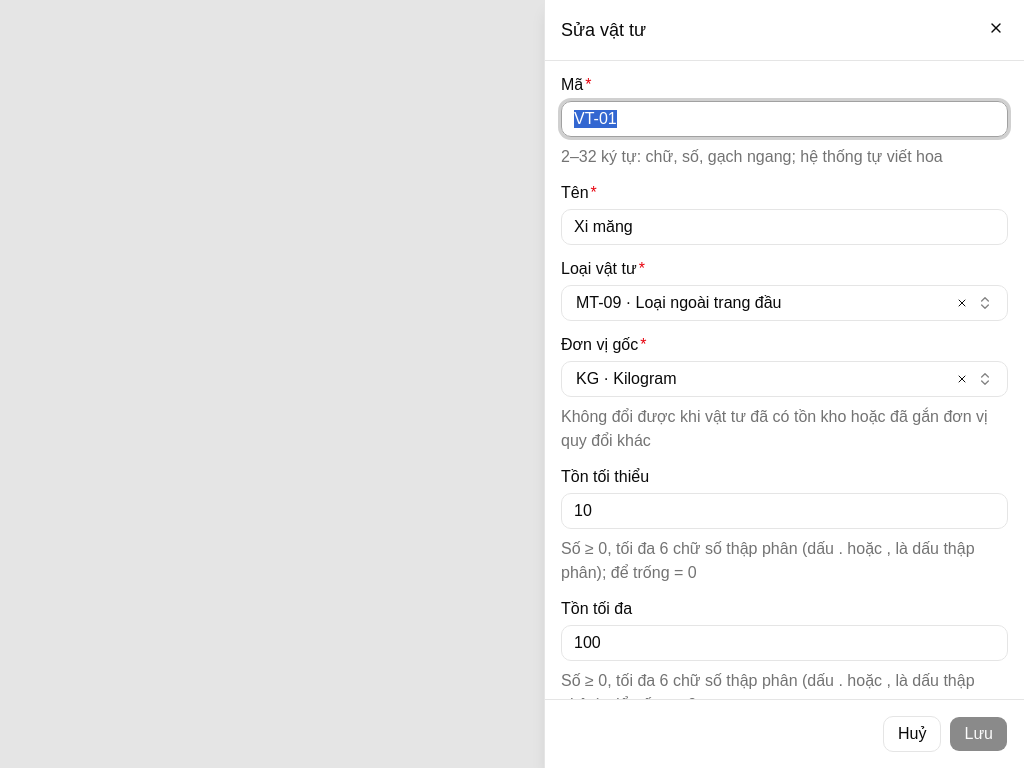
MaterialFormSheet › sửa: đổi đơn vị gốc bị khoá (100723) → lỗi tại ô Đơn vị gốc, có gợi ý sẵn
Expected: the text "Không đổi được khi vật tư đã có tồn kho hoặc đã gắn đơn vị quy đổi khác" is shown, [561,405,1008,453]
Click the dropdown named "Đơn vị gốc".
click(626, 378)  # box [561,361,1008,397]
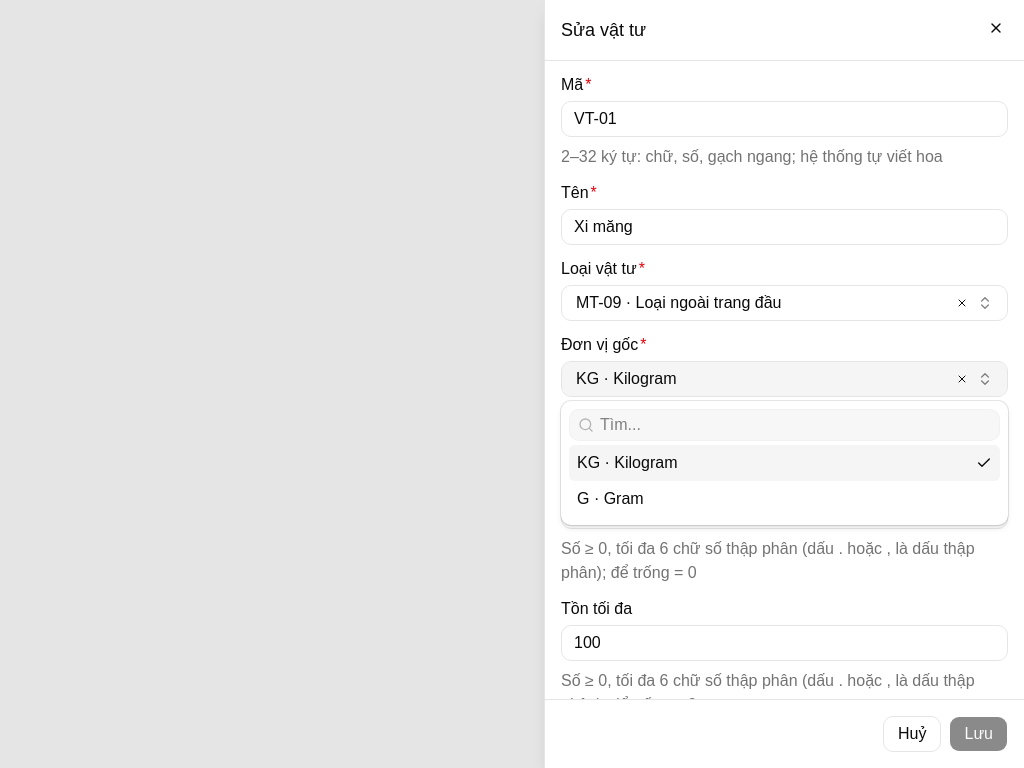
Click the option "G · Gram".
click(610, 498)  # box [577,490,644,507]
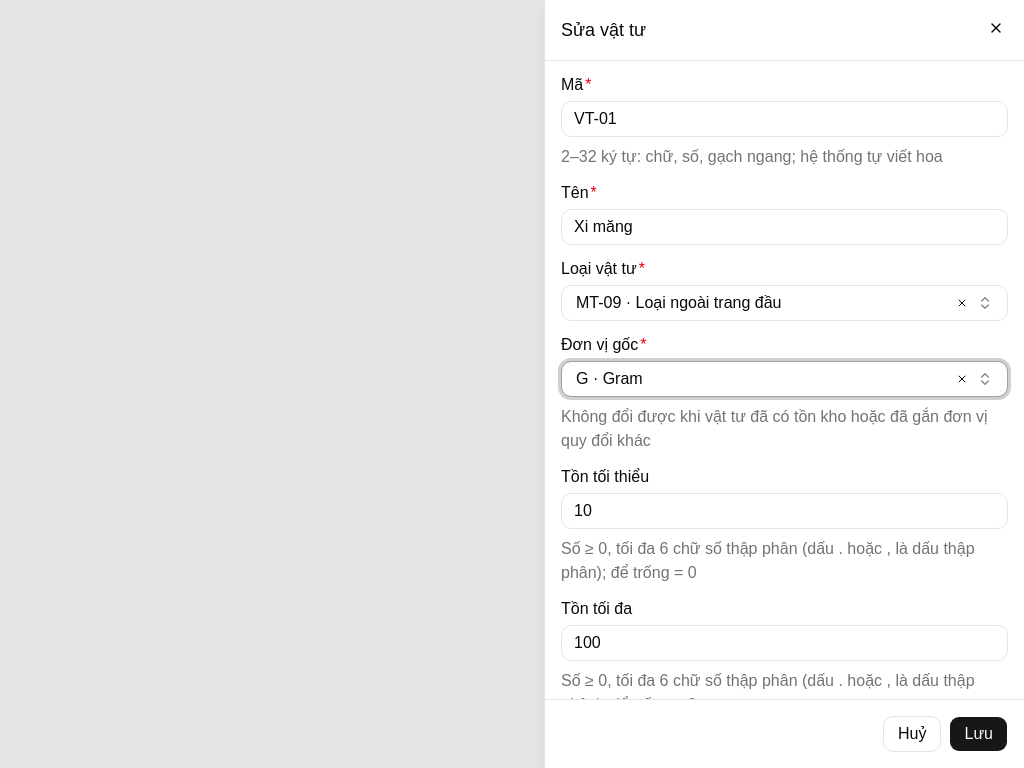
Click the button "Lưu".
click(979, 734)  # box [950,716,1008,752]
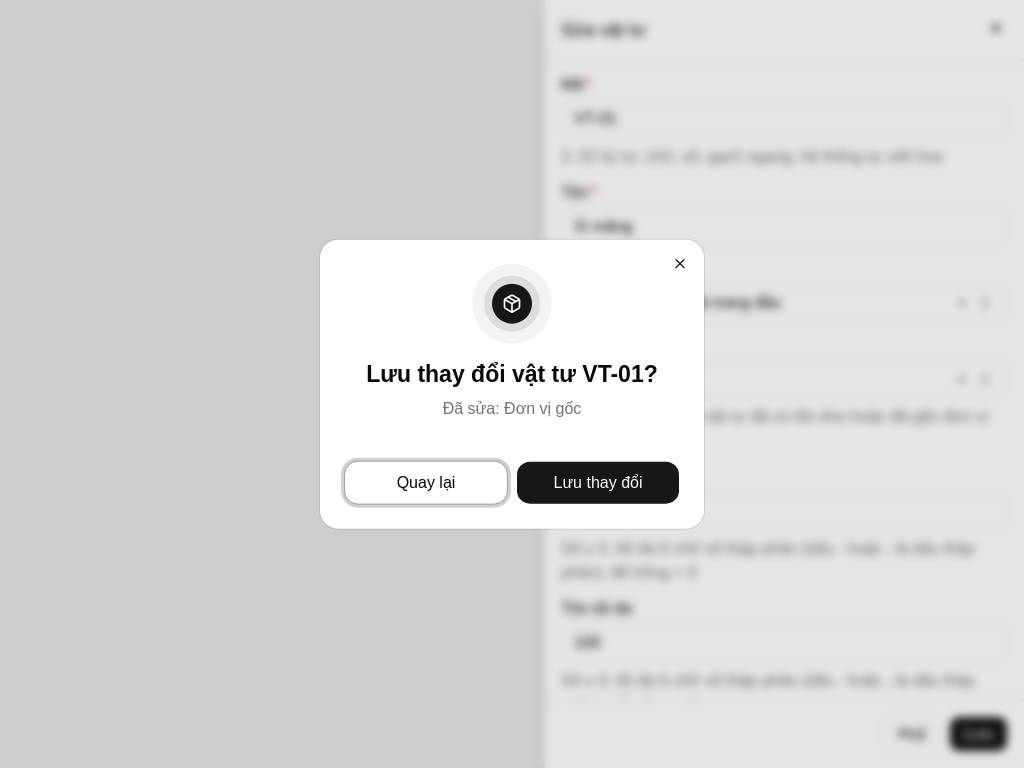
Click the button "Lưu thay đổi".
click(598, 482)  # box [516,460,680,504]
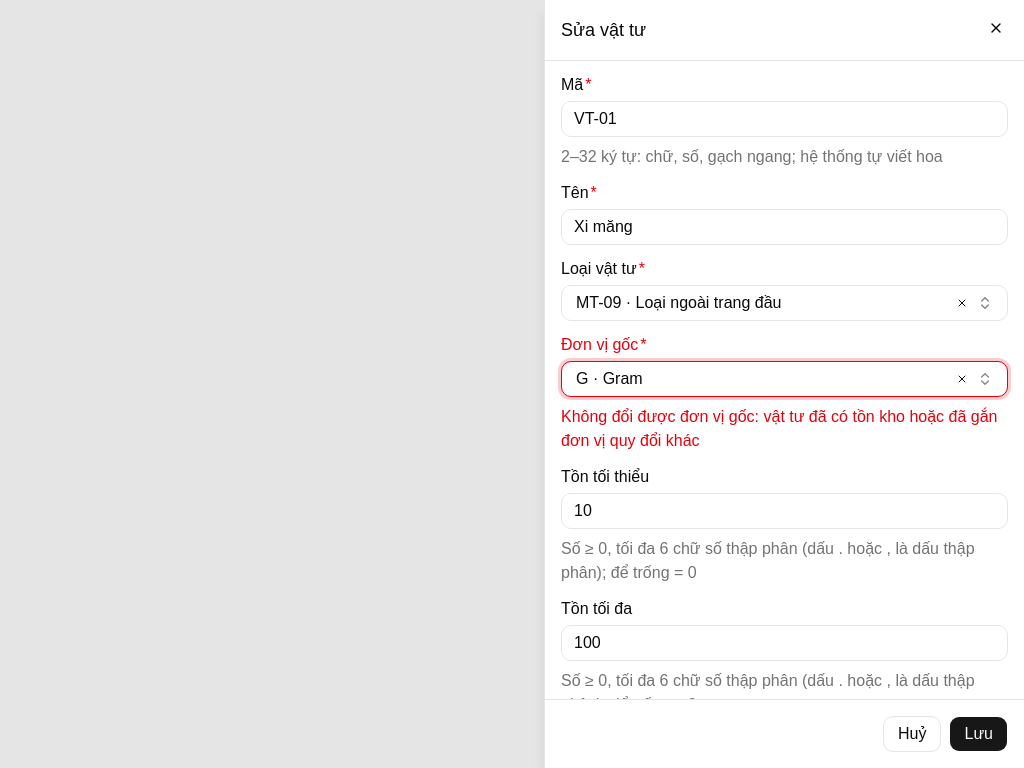
Expected: the text "Không đổi được đơn vị gốc: vật tư đã có tồn kho hoặc đã gắn đơn vị quy đổi khác" is shown, [561,405,1008,453]
